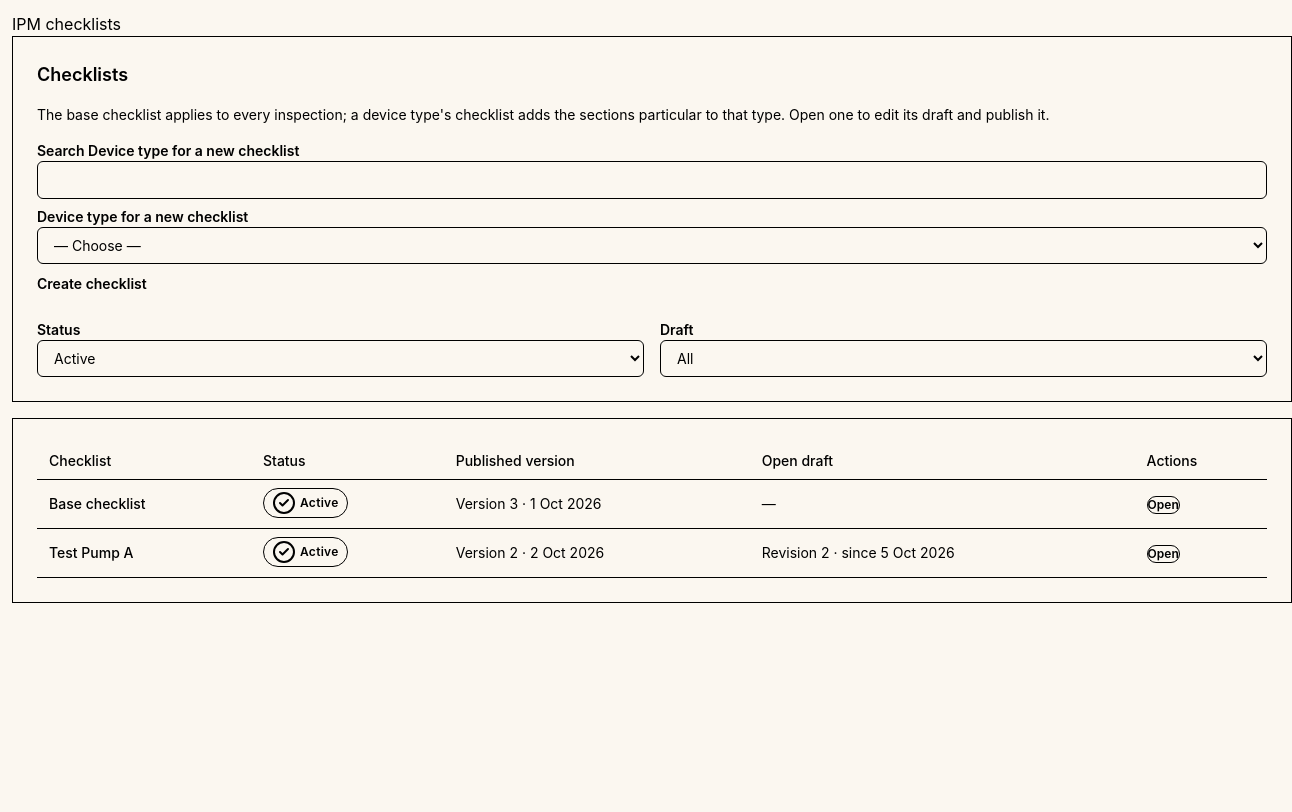
Test: P22-01 — the operator's checklists › a draft that cannot be read is an error state; back returns to the list
The image size is (1292, 812).
Click the button with aria-label "Open Test Pump A": (1163,554) [1147,545,1180,563]
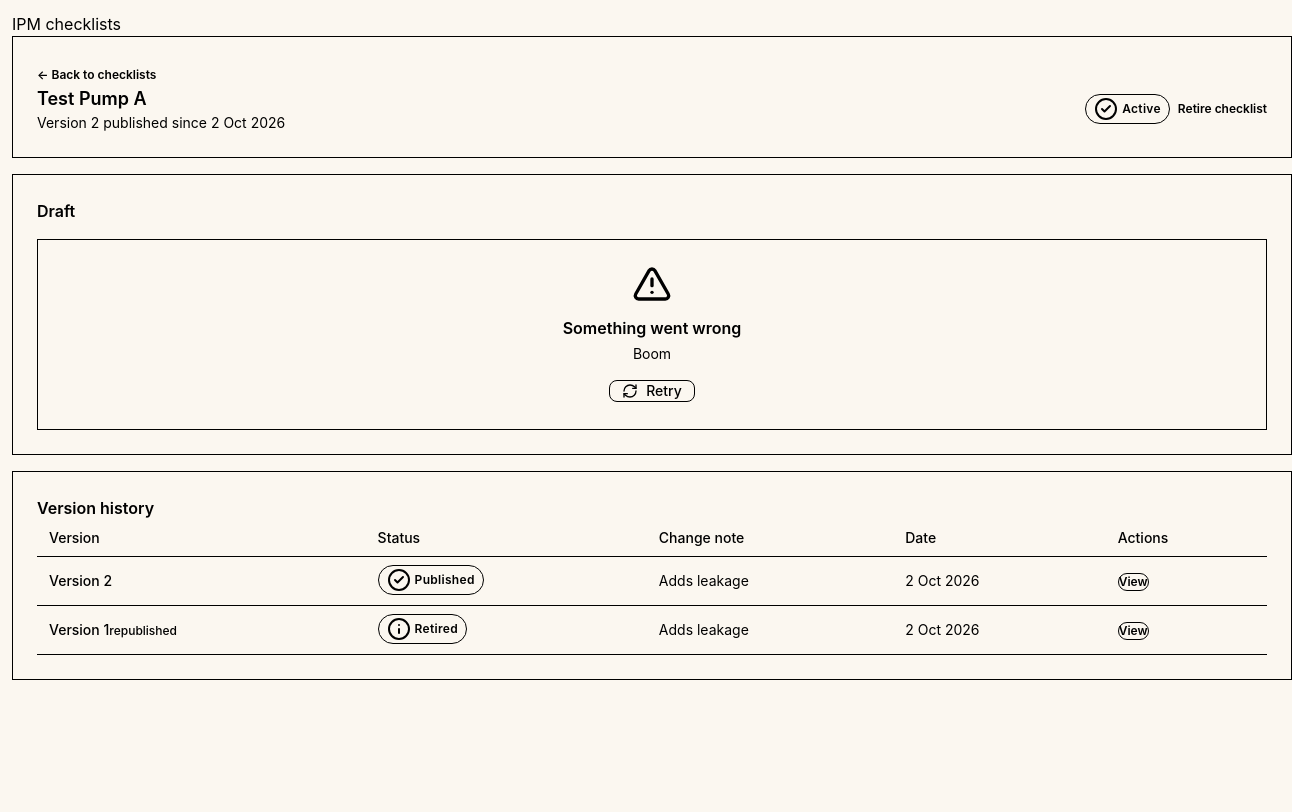
Result: the text "Something went wrong" is shown at [563,318,741,338]
Click the button "← Back to checklists": (97,75) [37,67,156,83]
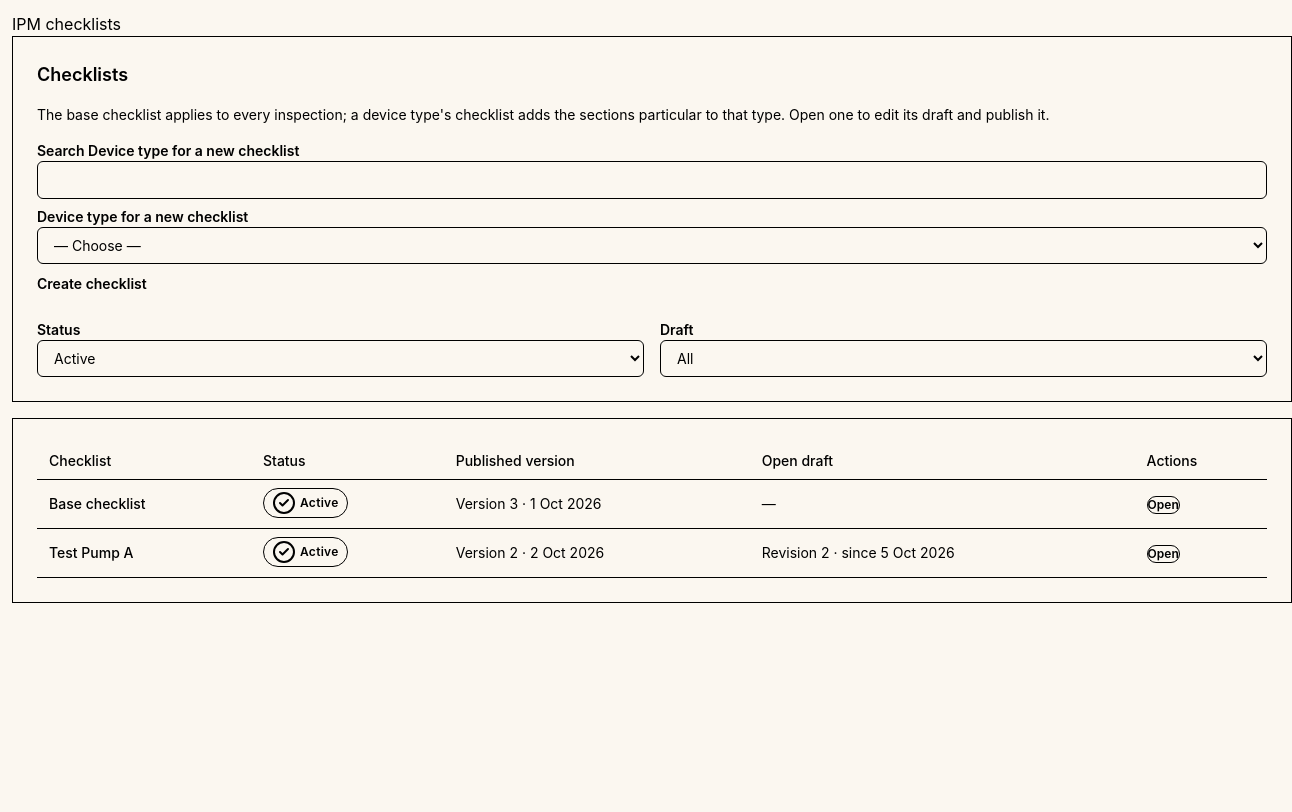
Result: the heading "Checklists" is shown at [37,64,128,85]
